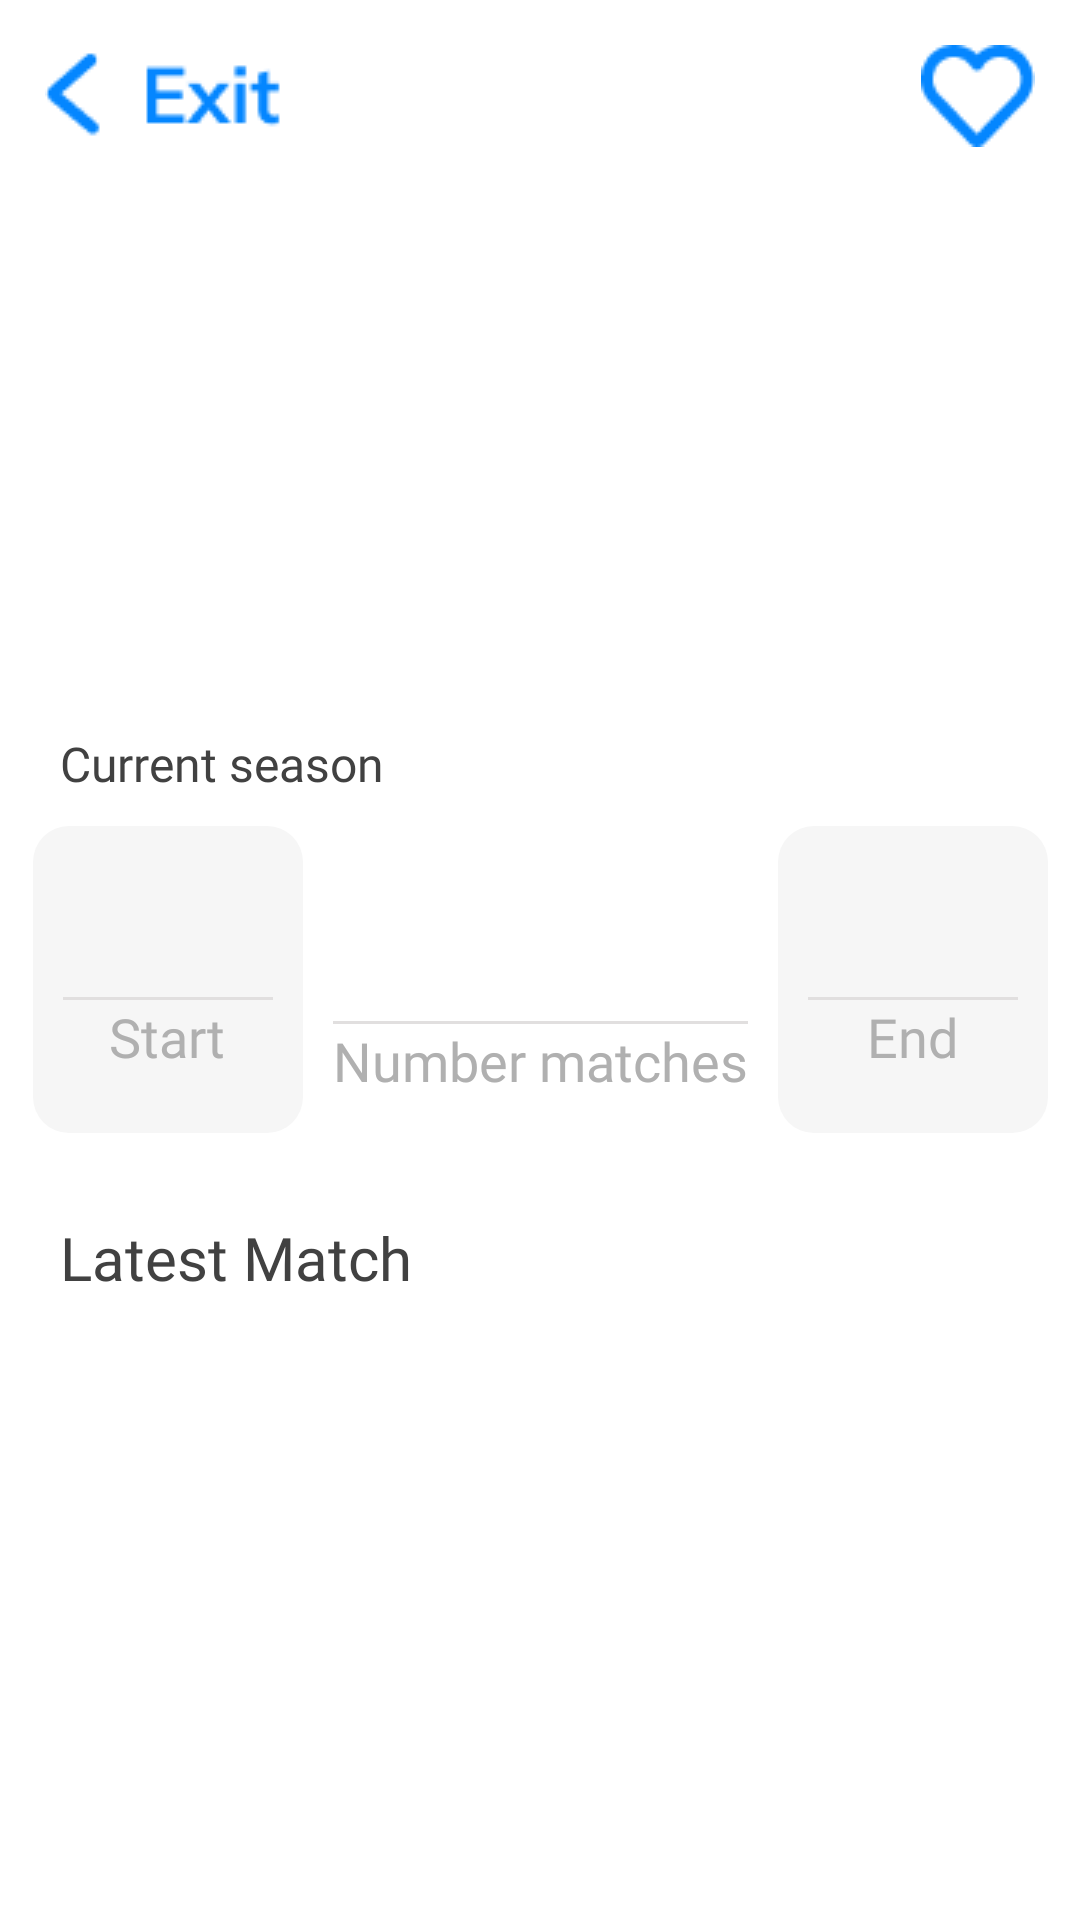

Point at icon controls on the screen. Image size 1080px x 1920px, points as [x,y].
empty like: [978,96]
